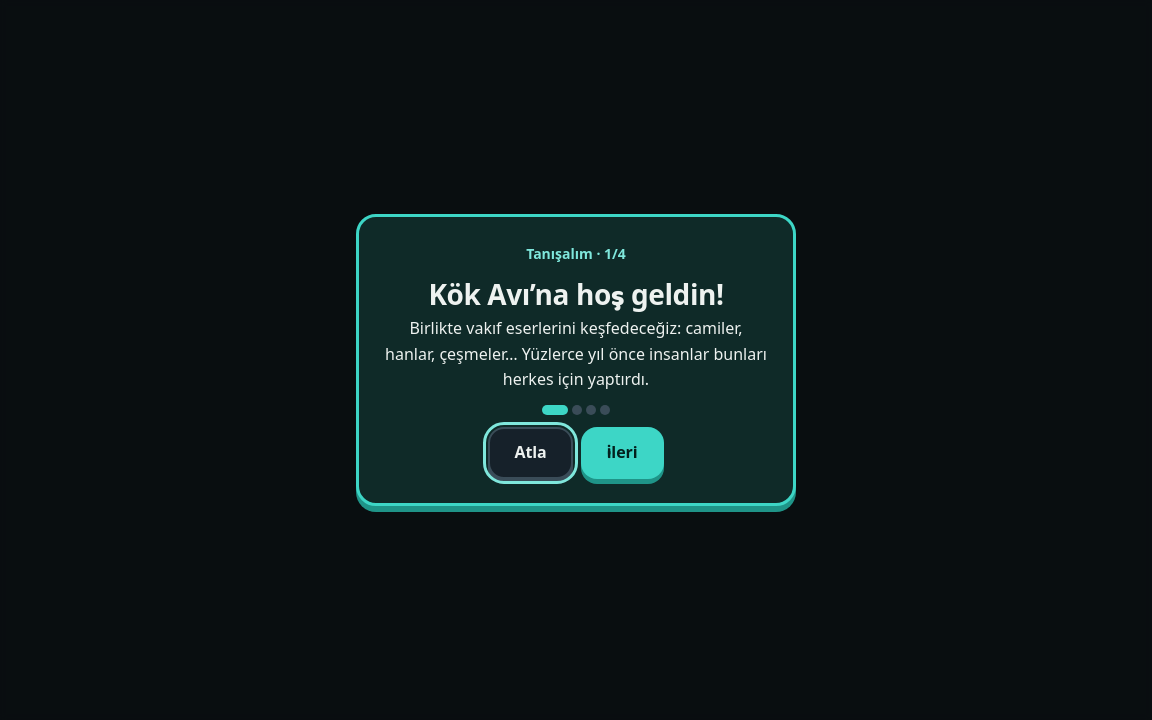
Test case: tanıtım turu › 4 sayfa İleri ile ilerler; son sayfada öğrenme sırası seçilir ve hatırlanır
Later steps or results of the test are not shown.
Check: the heading "Kök Avı’na hoş geldin!" is shown, box [428,275,724,313]
Click the button "İleri": (622, 453) [581,427,664,479]
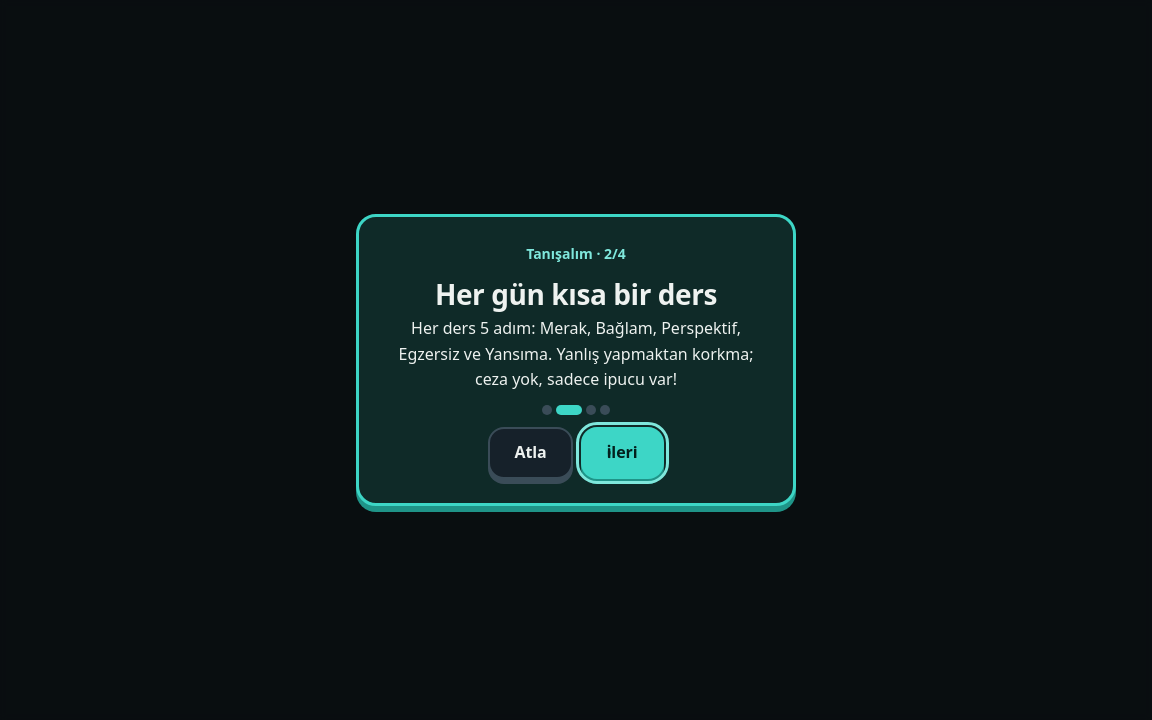
Click the button "İleri": (622, 453) [581,427,664,479]
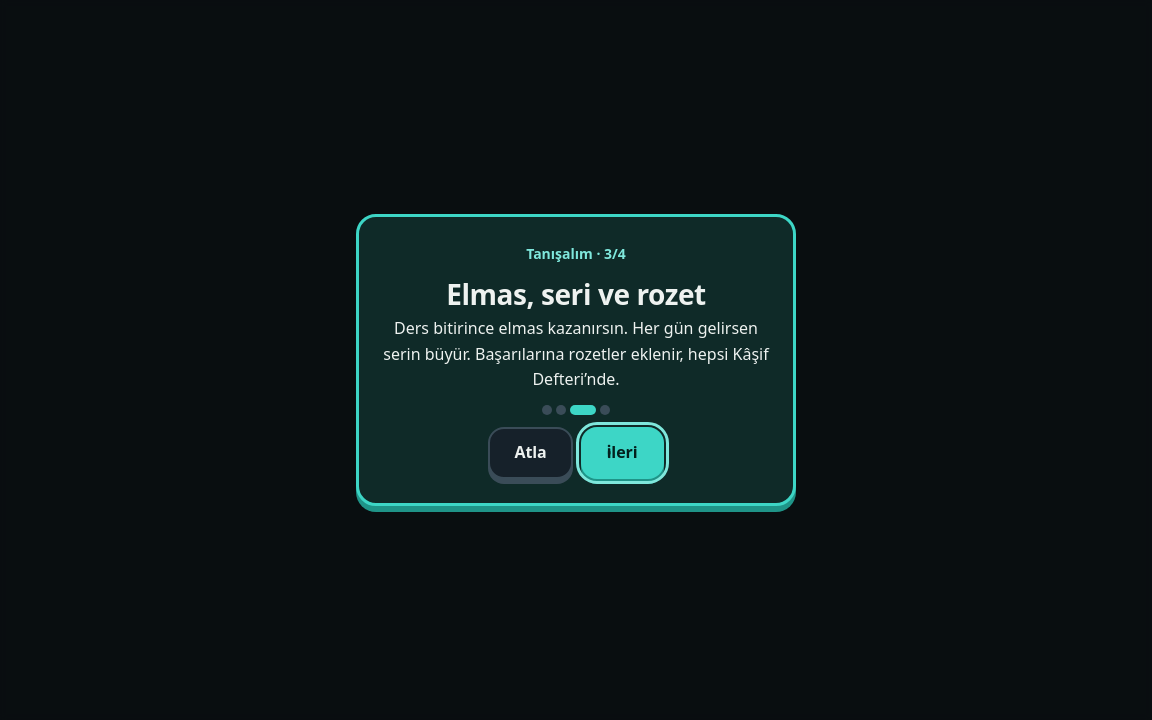
Click the button "İleri": (622, 453) [581,427,664,479]
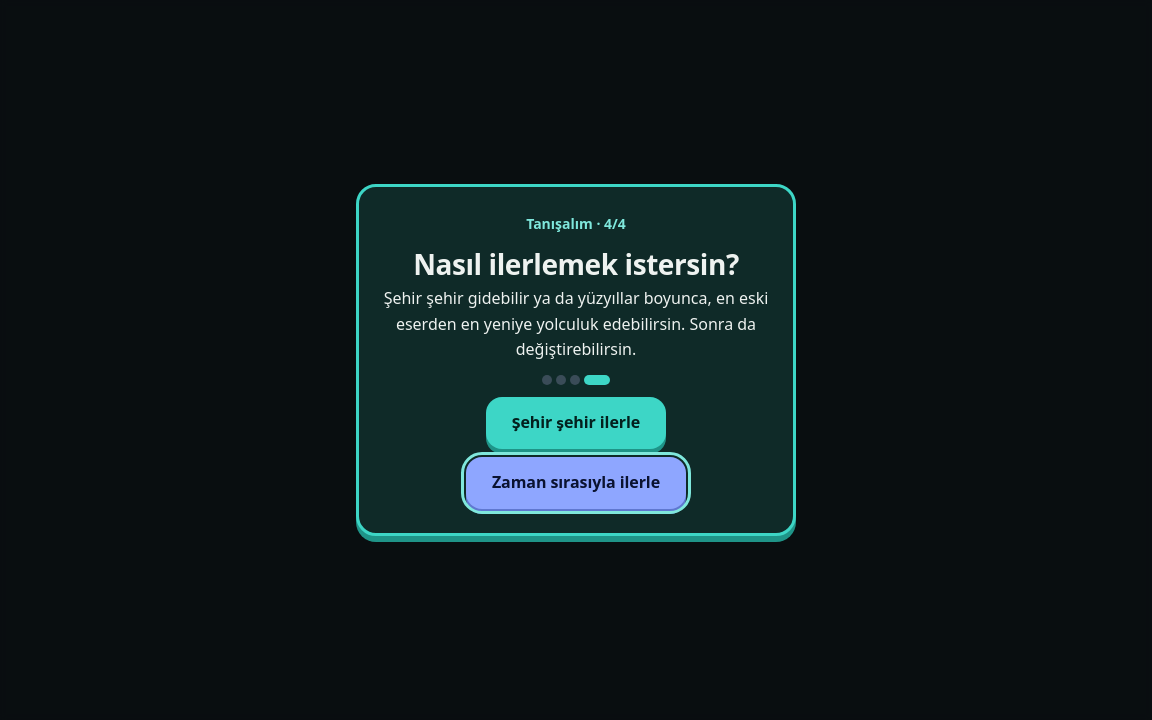
Check: the text "Tanışalım · 4/4" is shown, box [526,213,626,235]
Check: the button "Atla" is gone
Check: the heading "Nasıl ilerlemek istersin?" is shown, box [413,245,739,283]
